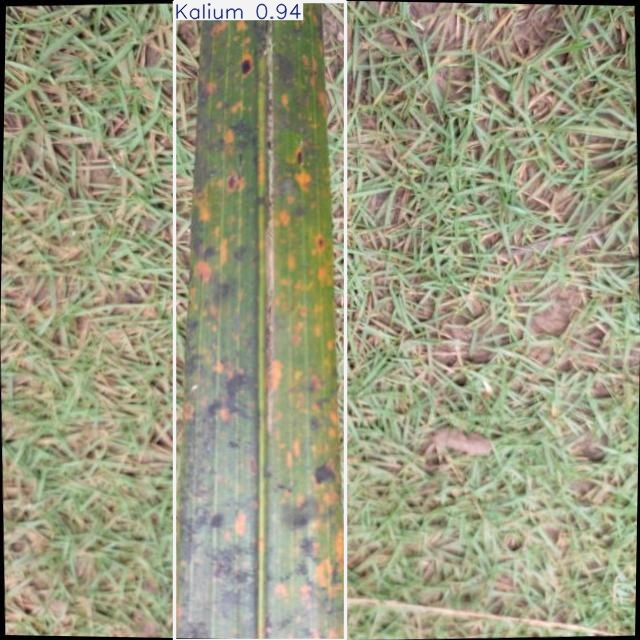Kalium: (174, 1, 346, 640)
